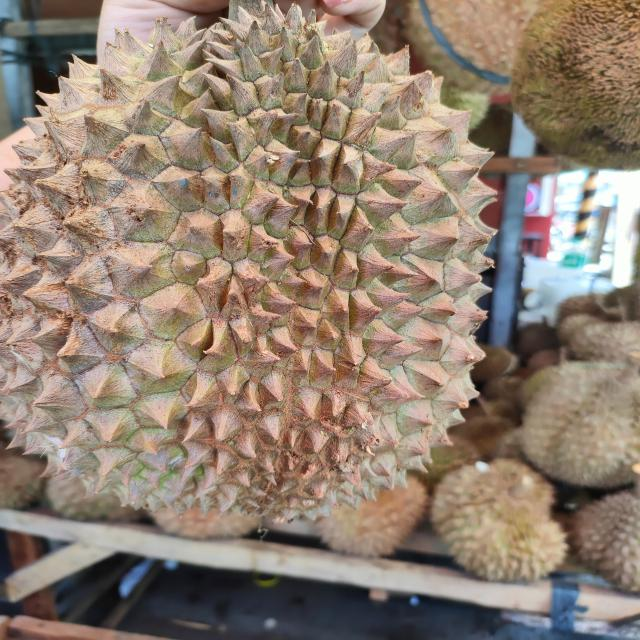mature: (5, 2, 502, 521)
